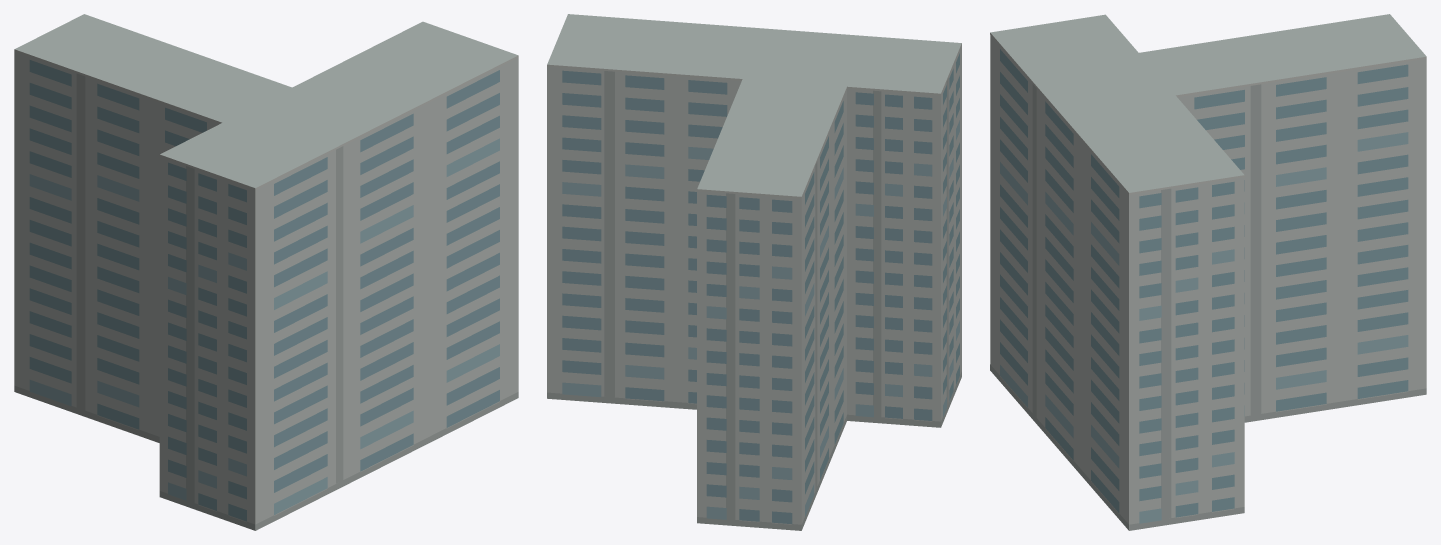
Rendered from residential-1e8349a5-b25f-43fd-82e5-1304be084da4.glb.
3 renders of one model, left to right at view 1: azimuth 30°, elevation 25°; view 2: azimuth 150°, elevation 25°; view 3: azimuth 270°, elevation 25°, orthographic. The views are drawn at different scales.
Parts seen in each view (by area): view 1: residential-1e8349a5-b25f-43fd-82e5-1304be084da4.tmp; view 2: residential-1e8349a5-b25f-43fd-82e5-1304be084da4.tmp; view 3: residential-1e8349a5-b25f-43fd-82e5-1304be084da4.tmp.
Boxes of the visible parts, x1,y1,x2,y2 form: residential-1e8349a5-b25f-43fd-82e5-1304be084da4.tmp: (14,14,518,530); residential-1e8349a5-b25f-43fd-82e5-1304be084da4.tmp: (547,14,961,530); residential-1e8349a5-b25f-43fd-82e5-1304be084da4.tmp: (990,14,1426,530).
Size of the model in its own units: 45.43 by 40 by 46.84.
